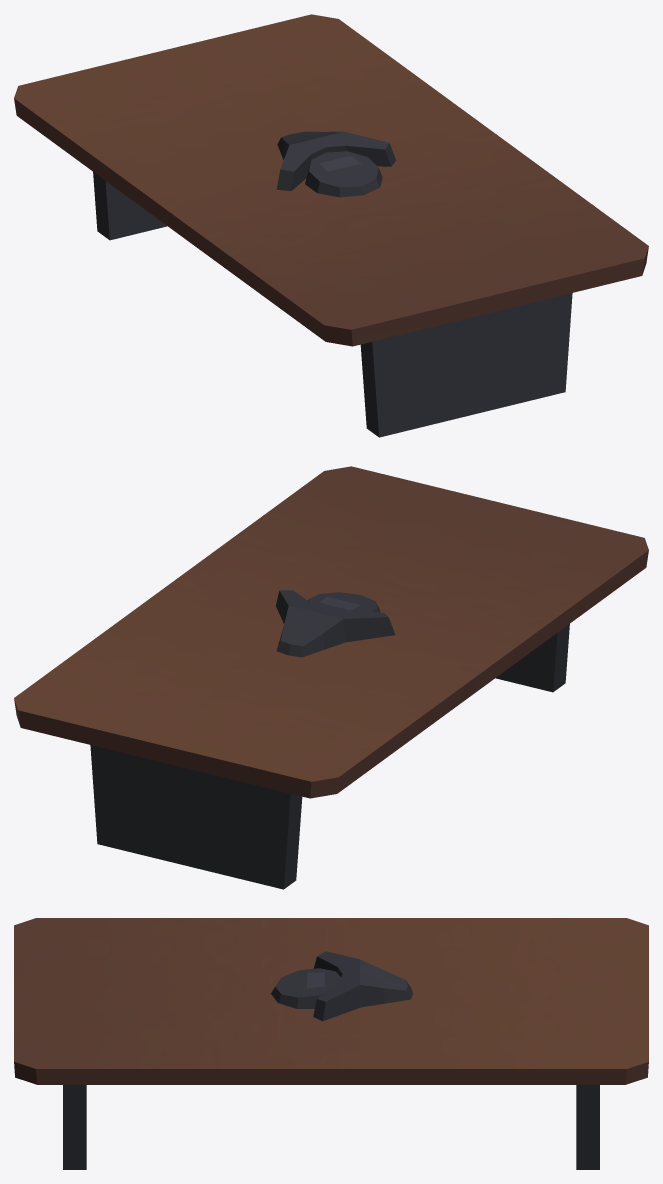
Rendered from MS_TableSigning.fbx.
The picture shows the model from 3 angles, top to bottom: view 1: azimuth 30°, elevation 25°; view 2: azimuth 150°, elevation 25°; view 3: azimuth 270°, elevation 25°; orthographic projection. The views are drawn at different scales.
Visible parts, largest first — view 1: TableSigning; view 2: TableSigning; view 3: TableSigning.
Boxes of the visible parts, left/top/right/bottom form: TableSigning: left=14, top=14, right=648, bottom=437; TableSigning: left=14, top=466, right=648, bottom=889; TableSigning: left=14, top=918, right=648, bottom=1169.
Size of the model in its own units: 771 by 368 by 1371.
